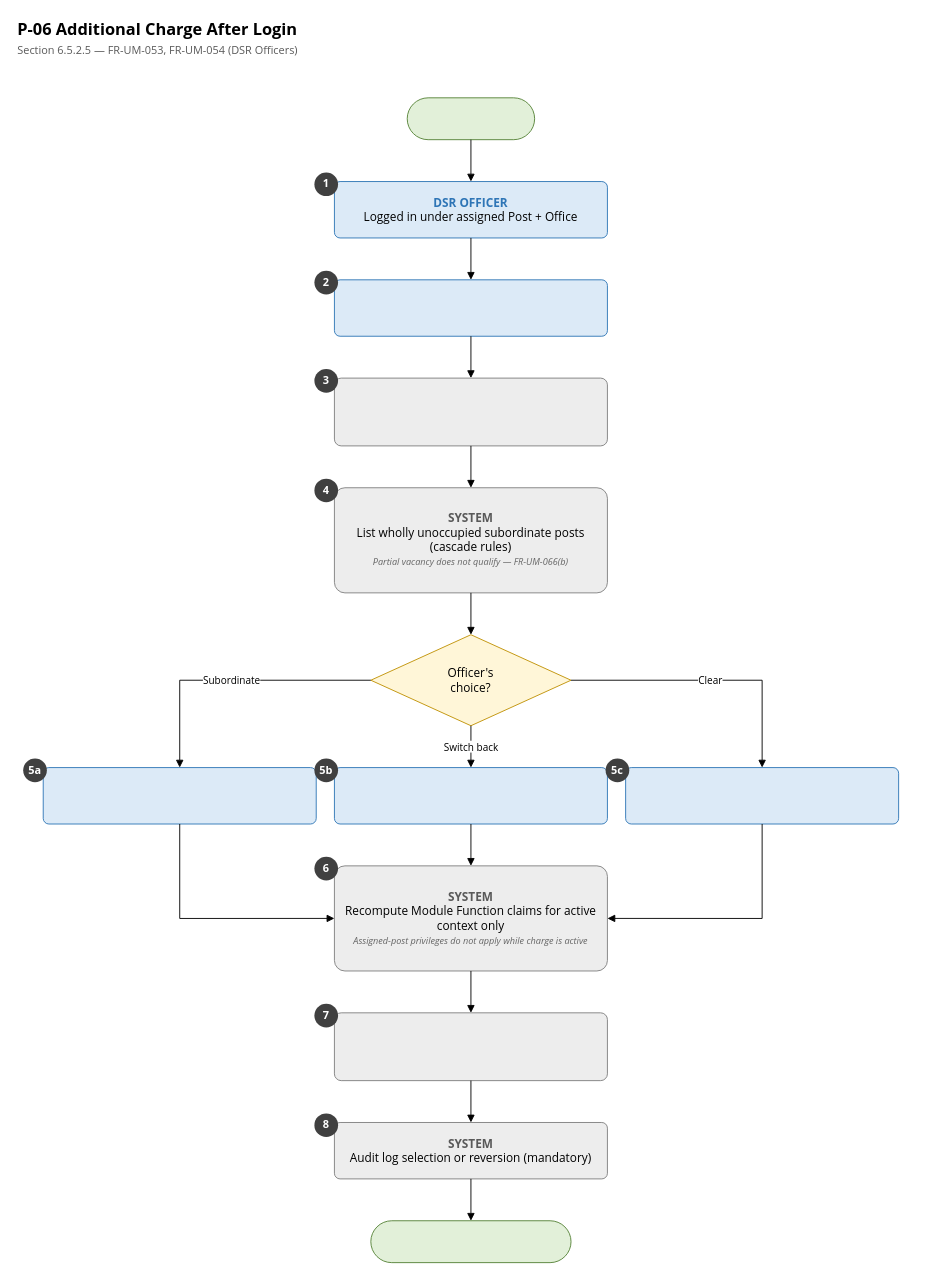
This 941x1279 diagram has some shape labels left out. The shapes that lost their labels are listed below. From the top down, each one's box as (x1, y1, x2, y2) in pixels, then its label:
(406, 97, 535, 140): START
(334, 279, 607, 336): DSR OFFICER Open Additional Charge control (no logout)
(334, 377, 607, 446): SYSTEM Read Hierarchy Master children of assigned Post at same Office
(42, 767, 316, 824): DSR OFFICER Select a subordinate post
(334, 767, 607, 824): DSR OFFICER Switch back to assigned post
(625, 767, 899, 824): DSR OFFICER Clear additional charge
(334, 1012, 607, 1081): UI Update header — assigned post + active context label
(370, 1220, 571, 1263): CONTEXT UPDATED
